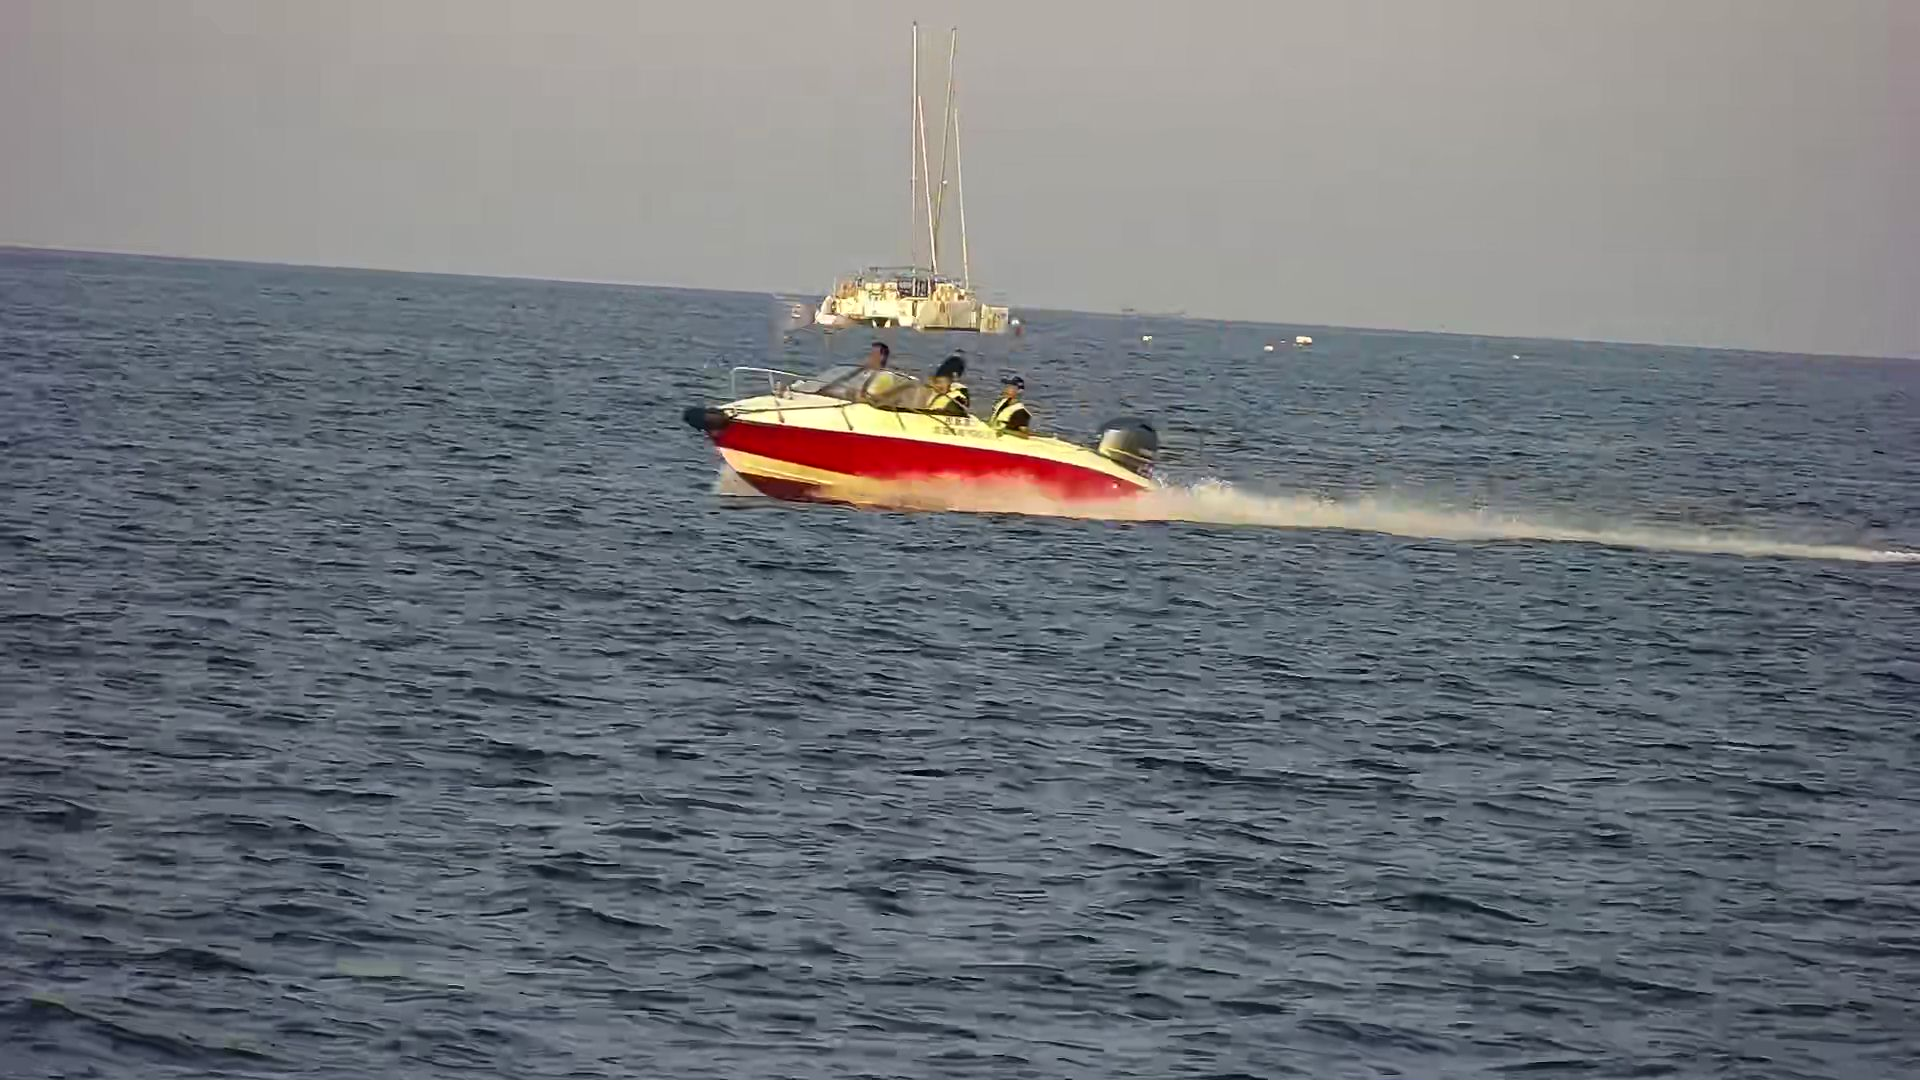boat: (684, 340, 1189, 527)
platform: (795, 21, 1036, 351)
